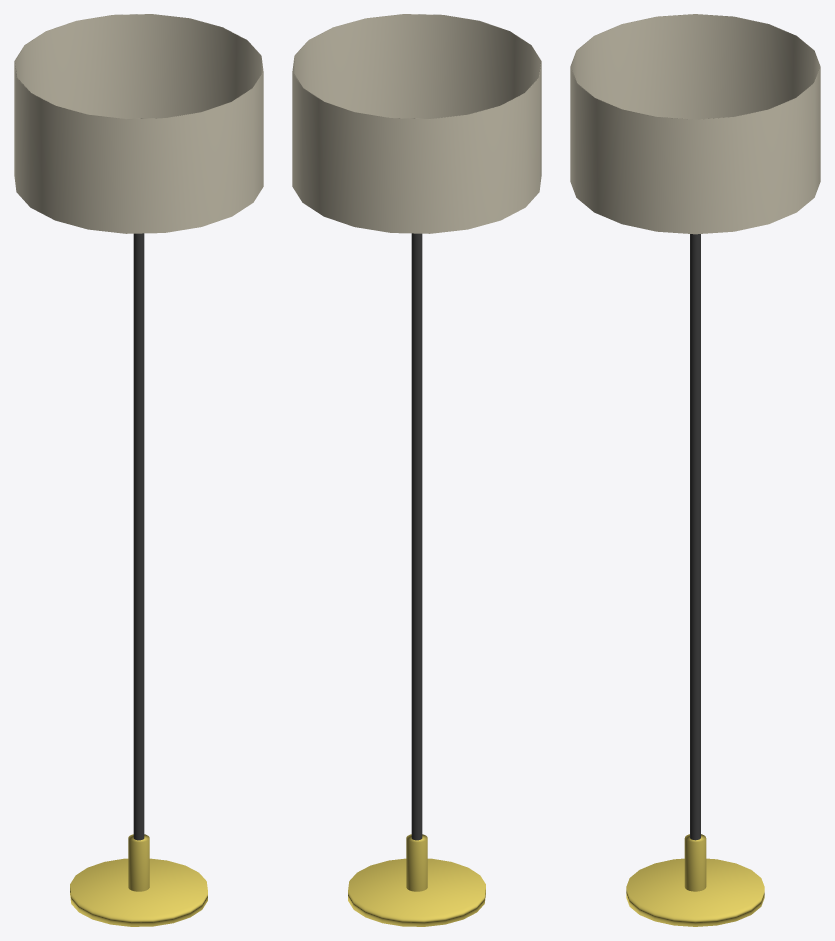
File: Lamp 1.fbx
The picture shows the model from 3 angles, left to right: view 1: azimuth 30°, elevation 25°; view 2: azimuth 150°, elevation 25°; view 3: azimuth 270°, elevation 25°; orthographic projection.
Parts seen in each view (by area): view 1: pPipe2; view 2: pPipe2; view 3: pPipe2.
Part boxes in pixels (x1,y1,x2,y2): pPipe2: (14, 14, 263, 926); pPipe2: (292, 14, 541, 926); pPipe2: (570, 14, 820, 926).
Bounding box in the file's own units: 18.09 × 66.2 × 18.09.
